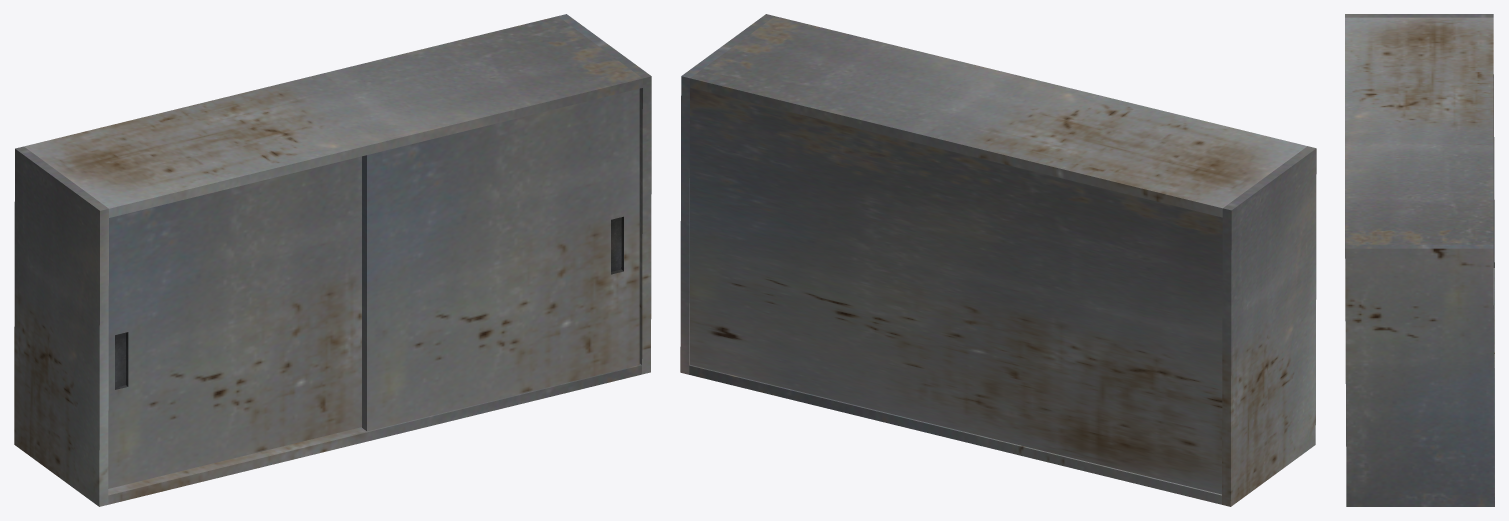
The model's file is cabin05b.fbx.
3 renders of one model, left to right at view 1: azimuth 30°, elevation 25°; view 2: azimuth 150°, elevation 25°; view 3: azimuth 270°, elevation 25°, orthographic. The views are drawn at different scales.
Visible parts, largest first — view 1: cabin05b; view 2: cabin05b; view 3: cabin05b.
Part boxes in pixels (x1=…): cabin05b: x1=14, y1=14, x2=651, y2=506; cabin05b: x1=680, y1=14, x2=1316, y2=506; cabin05b: x1=1345, y1=14, x2=1494, y2=506.
Bounding box in the file's own units: 124 × 63.69 × 33.45.
